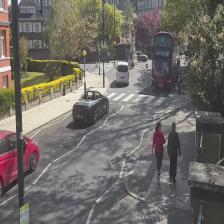person: (152, 120, 167, 184), (167, 121, 180, 184)
